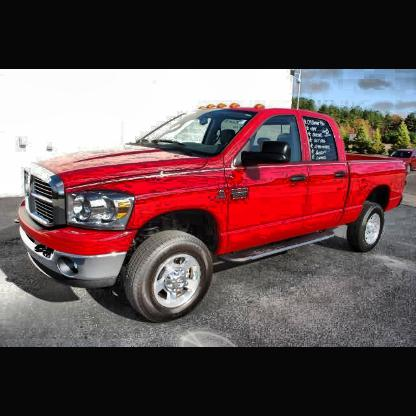Dodge Ram Pickup 3500 Quad Cab 2009: (15, 102, 408, 325)
